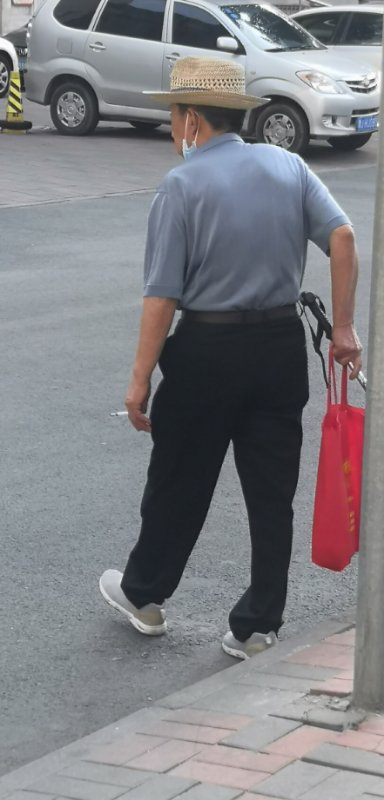smoke: (108, 409, 130, 419)
